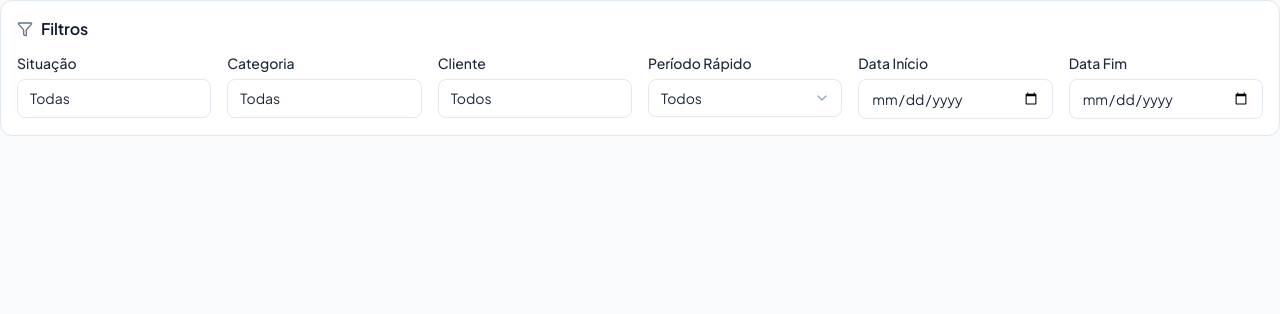
Test case: MultiSelect na barra de filtros de Contas › abrir mostra as opções daquele filtro, e só daquele
The image size is (1280, 314).
Click the button named "Situação Todas" at (114, 98), box top-left (17, 79), bottom-right (211, 118)
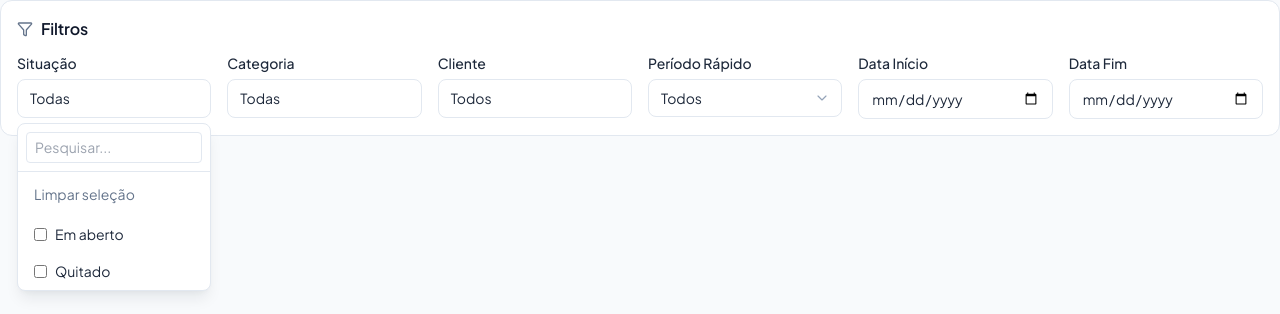
Click the button "Todas" below "Categoria" at (324, 98), box top-left (227, 79), bottom-right (422, 118)
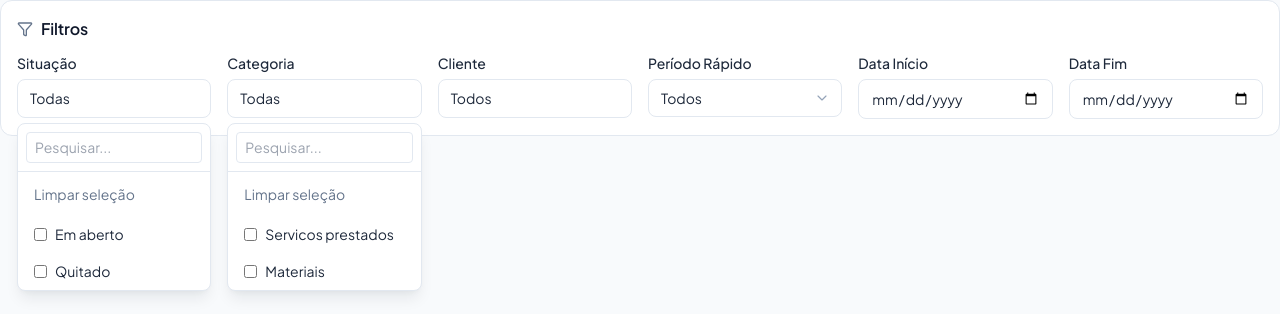
Expected: the checkbox labelled "Em aberto" is shown, top-left (34, 228), bottom-right (47, 241)
Expected: the checkbox labelled "Quitado" is shown, top-left (34, 265), bottom-right (47, 278)
Expected: the checkbox labelled "Materiais" is shown, top-left (244, 265), bottom-right (257, 278)
